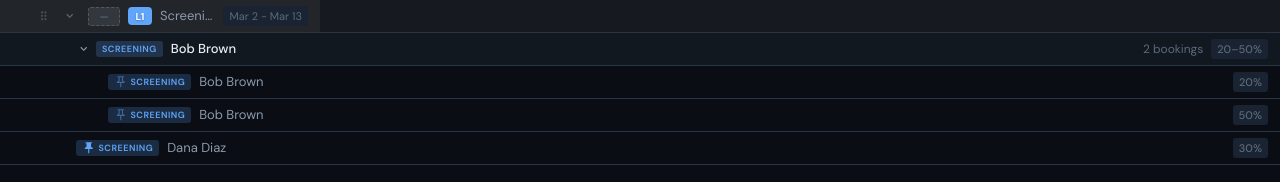
it: SubphaseRow per-person booking groups › collapses the group to its overview row
This screenshot has width=1280, height=182.
Click the button named "Collapse Bob Brown's bookings" at point(84, 49), box [76, 39, 92, 59]
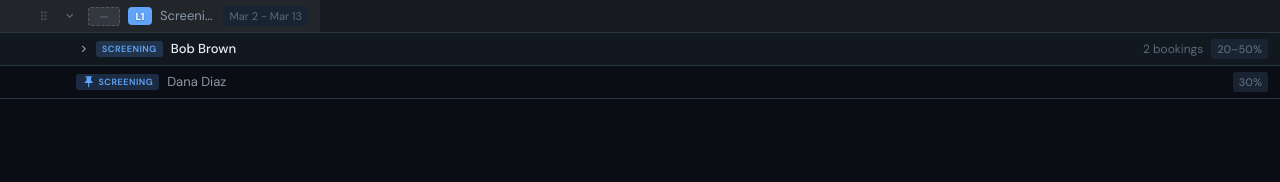
Expected: the text titled "Dana Diaz" is shown, [167, 73, 226, 90]
Expected: the button named "Expand Bob Brown's bookings" is collapsed, [76, 39, 92, 59]
